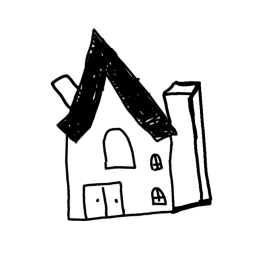chimney: (164, 71, 212, 138), (36, 76, 88, 106)
closed_window: (143, 183, 170, 208), (144, 151, 165, 176)
door: (80, 179, 132, 222)
open_window: (100, 125, 136, 171)
shaded_roof: (48, 26, 170, 145)
wall: (60, 121, 178, 226)
